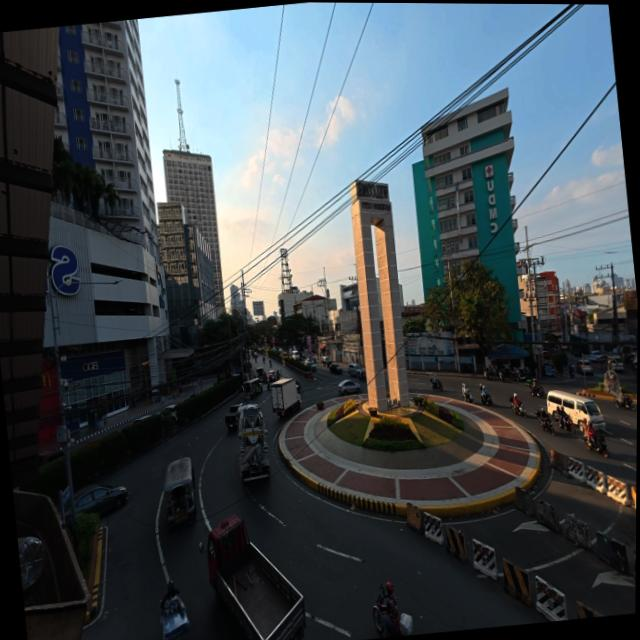Jeepneys: (162, 457, 195, 529), (242, 379, 261, 400), (255, 367, 266, 381)
car: (73, 484, 127, 515), (224, 404, 243, 429), (38, 449, 63, 465), (337, 380, 360, 395), (161, 404, 177, 422), (575, 361, 592, 375), (130, 414, 151, 425), (590, 349, 605, 362), (329, 362, 342, 374), (320, 356, 330, 367), (356, 369, 365, 380), (268, 370, 275, 382), (300, 357, 309, 366), (308, 361, 315, 371), (307, 354, 314, 362)
motorcycle: (372, 584, 412, 637), (160, 596, 189, 639), (586, 431, 608, 458), (553, 411, 574, 434), (537, 409, 554, 435), (508, 397, 525, 417), (614, 396, 635, 411), (483, 365, 498, 380), (480, 390, 492, 407), (498, 367, 512, 381), (529, 386, 544, 398), (516, 368, 528, 382), (463, 388, 473, 404), (430, 379, 442, 390), (568, 364, 575, 378)
trucks: (206, 516, 305, 639), (237, 404, 269, 481), (270, 378, 300, 415), (224, 404, 242, 429)
vans: (546, 390, 605, 429), (607, 357, 623, 372), (347, 364, 360, 377), (290, 350, 299, 361)
